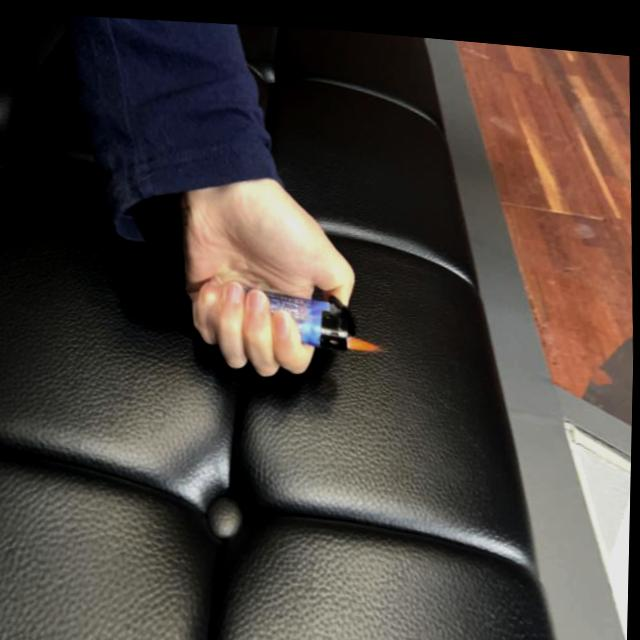Fire: (346, 326, 385, 346)
